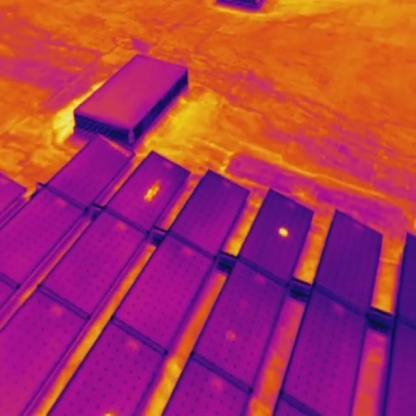anomaly: (144, 182, 165, 206), (275, 219, 291, 246)
